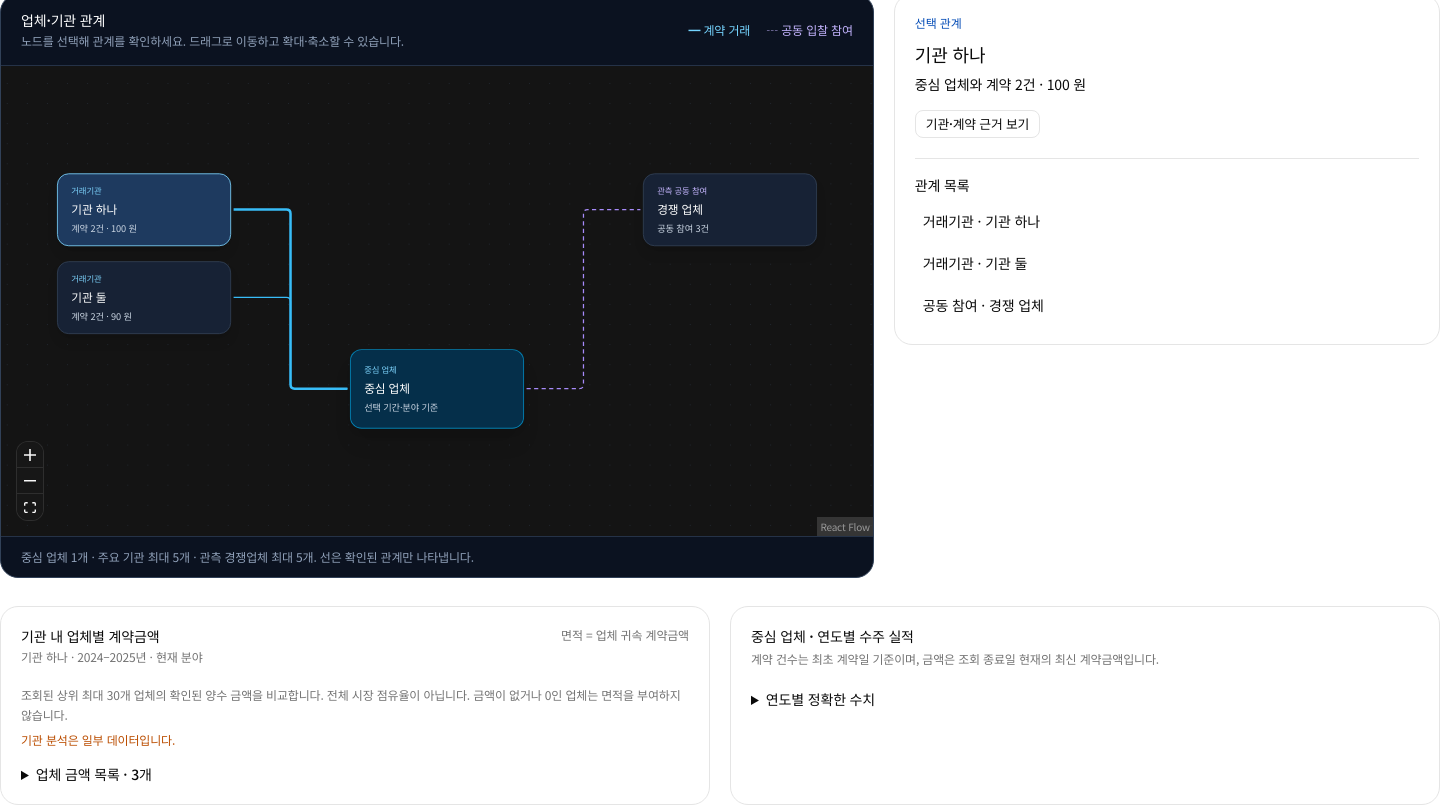
Scenario: Treemap은 누락·0 금액에 면적을 만들지 않고 원래 값은 목록에 보존한다
(page scrolled)
Expected: the text "기관 분석은 일부 데이터입니다." is shown, [21,731,175,748]
Click the heading "업체 금액 목록 · 3개" at coordinates (94, 774), box [36,764,152,784]
(page scrolled)
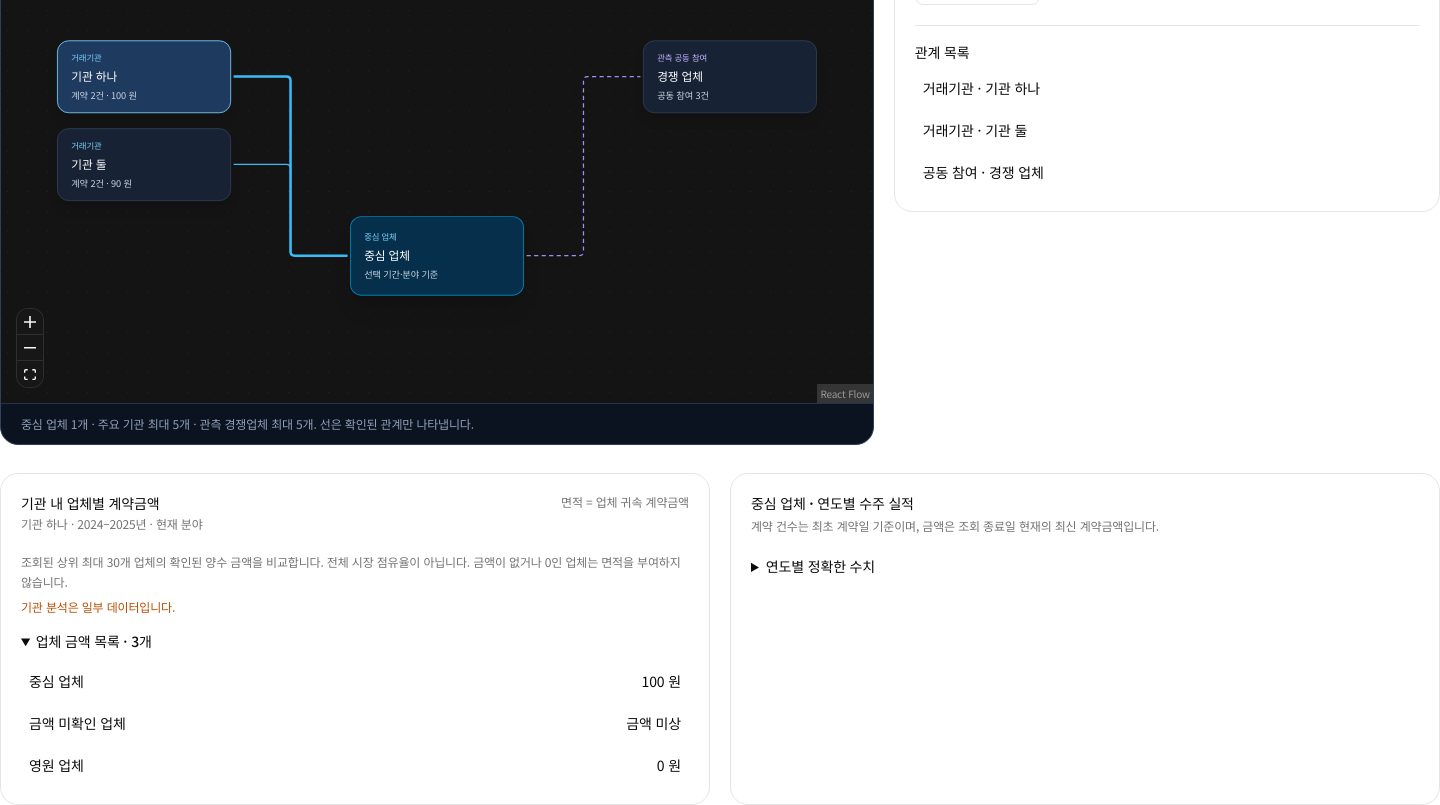
Expected: the button "금액 미확인 업체 금액 미상" is shown, [21,705,689,743]
Expected: the button "영원 업체 0 원" is shown, [21,747,689,784]
